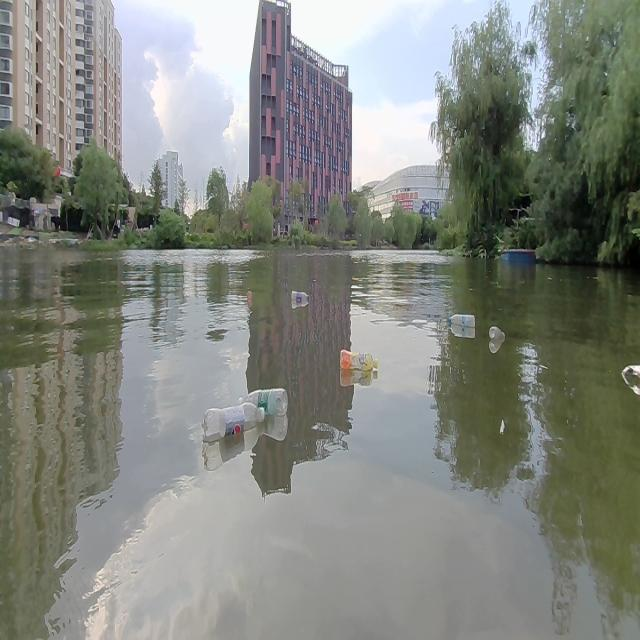bottle: (200, 402, 265, 444), (337, 344, 381, 381), (238, 388, 290, 419), (448, 308, 474, 332), (290, 284, 310, 308), (489, 322, 506, 345), (245, 289, 253, 301)
